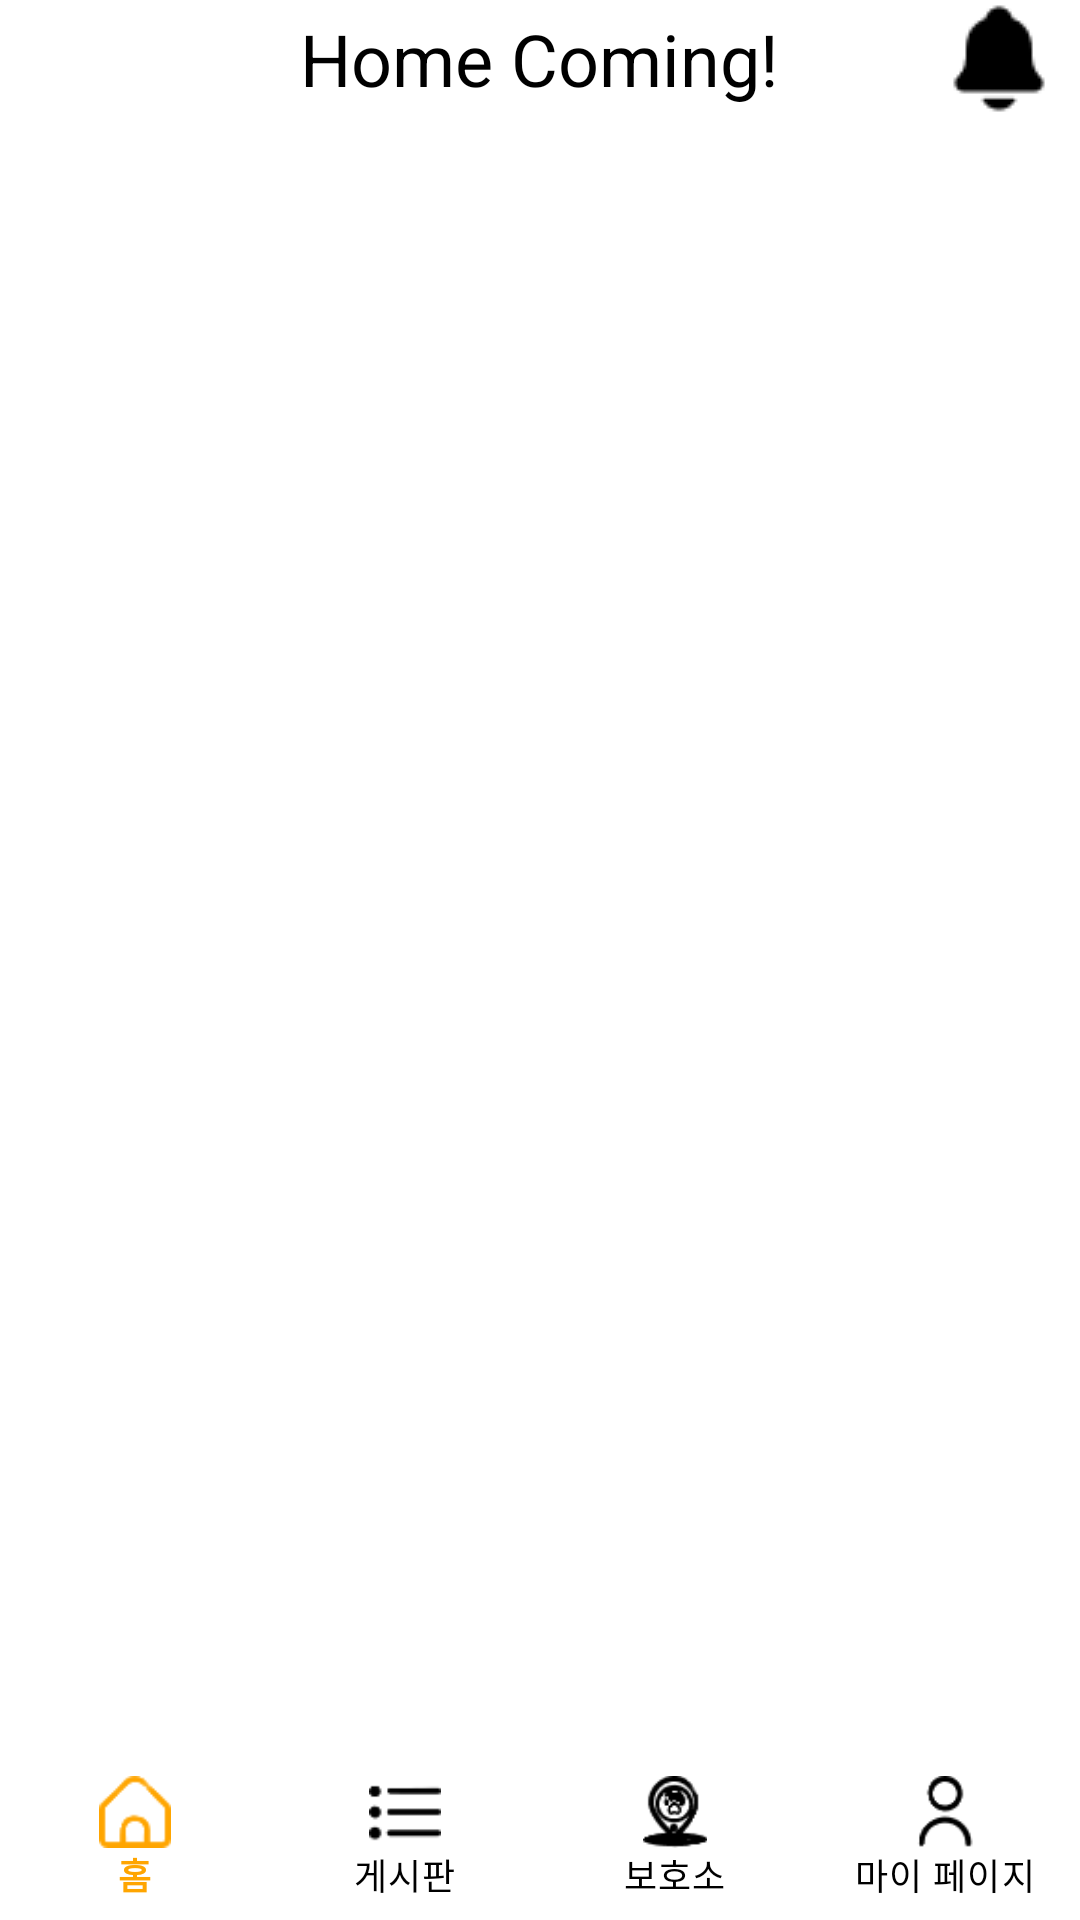

Icons on this 1080px×1920px Android screen, each with its box as bbox=(x1, y1, x2, y2):
notification: bbox=(953, 5, 1045, 112)
